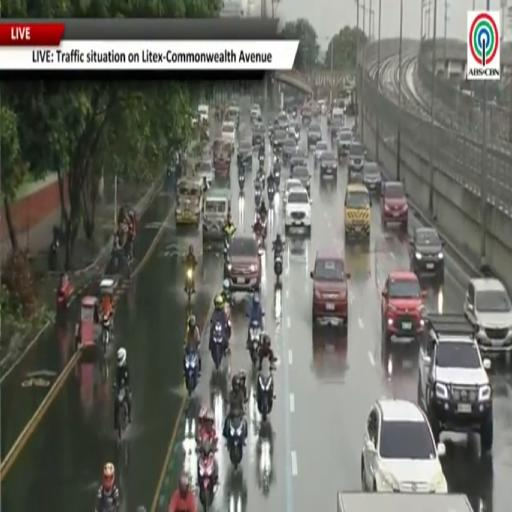car: (418, 314, 493, 452), (361, 398, 447, 493), (464, 278, 511, 354), (382, 270, 426, 346), (310, 248, 350, 326), (224, 236, 261, 292), (409, 227, 444, 283), (345, 184, 371, 244), (381, 182, 408, 232), (285, 187, 311, 235), (348, 140, 366, 180), (291, 166, 311, 196), (363, 162, 381, 194), (283, 179, 301, 210), (196, 159, 214, 186), (320, 152, 337, 180), (337, 128, 352, 158), (238, 139, 253, 169), (222, 121, 236, 153), (290, 152, 307, 175), (273, 128, 287, 155), (307, 123, 321, 150), (283, 137, 296, 165), (252, 122, 265, 149), (315, 140, 328, 166), (226, 105, 239, 130), (330, 119, 344, 142), (289, 121, 300, 145), (331, 107, 345, 125), (197, 104, 209, 124), (301, 107, 312, 125), (250, 104, 261, 122), (277, 111, 288, 129), (318, 100, 326, 115)
jeepney: (203, 187, 231, 247), (175, 177, 203, 226), (213, 138, 231, 178)
motorcycle: (198, 446, 215, 511), (228, 414, 244, 470), (256, 371, 273, 422), (211, 322, 225, 370), (184, 351, 199, 395), (117, 388, 128, 440), (249, 320, 261, 364), (101, 315, 111, 355), (254, 221, 264, 254), (56, 287, 68, 314), (48, 239, 58, 271), (186, 267, 194, 302), (274, 250, 282, 285), (223, 235, 232, 258), (272, 166, 280, 188), (256, 169, 265, 188), (261, 215, 267, 241), (255, 188, 261, 209), (268, 186, 275, 204), (239, 173, 245, 191), (294, 131, 300, 144), (259, 154, 264, 169)
truck: (337, 492, 473, 511)
